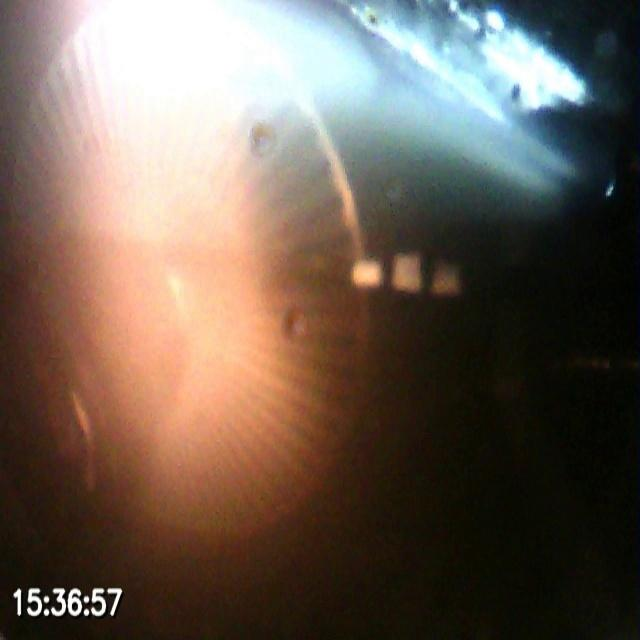white-dots: (349, 250, 461, 299)
